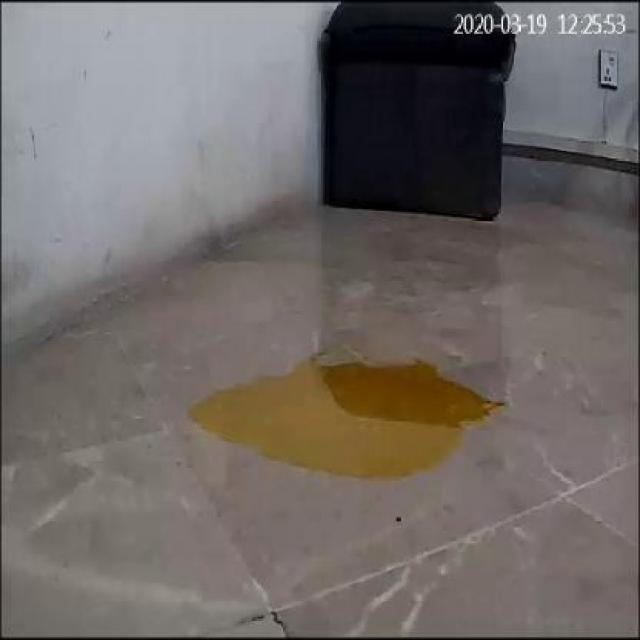spill: (190, 357, 504, 475)
